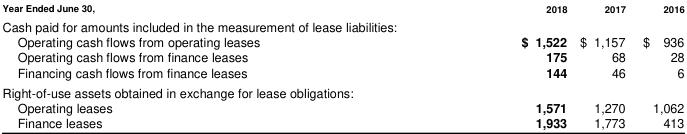table: (1, 1, 683, 130)
table column: (1, 1, 390, 130), (390, 1, 572, 130), (572, 1, 633, 130), (633, 1, 683, 130)
table column header: (1, 1, 683, 16)
table projected row header: (1, 16, 683, 33), (1, 82, 683, 99)
table row: (1, 64, 683, 82), (1, 16, 683, 33), (1, 82, 683, 99), (1, 48, 683, 64), (1, 114, 683, 130), (1, 1, 683, 16), (1, 33, 683, 48), (1, 99, 683, 114)
